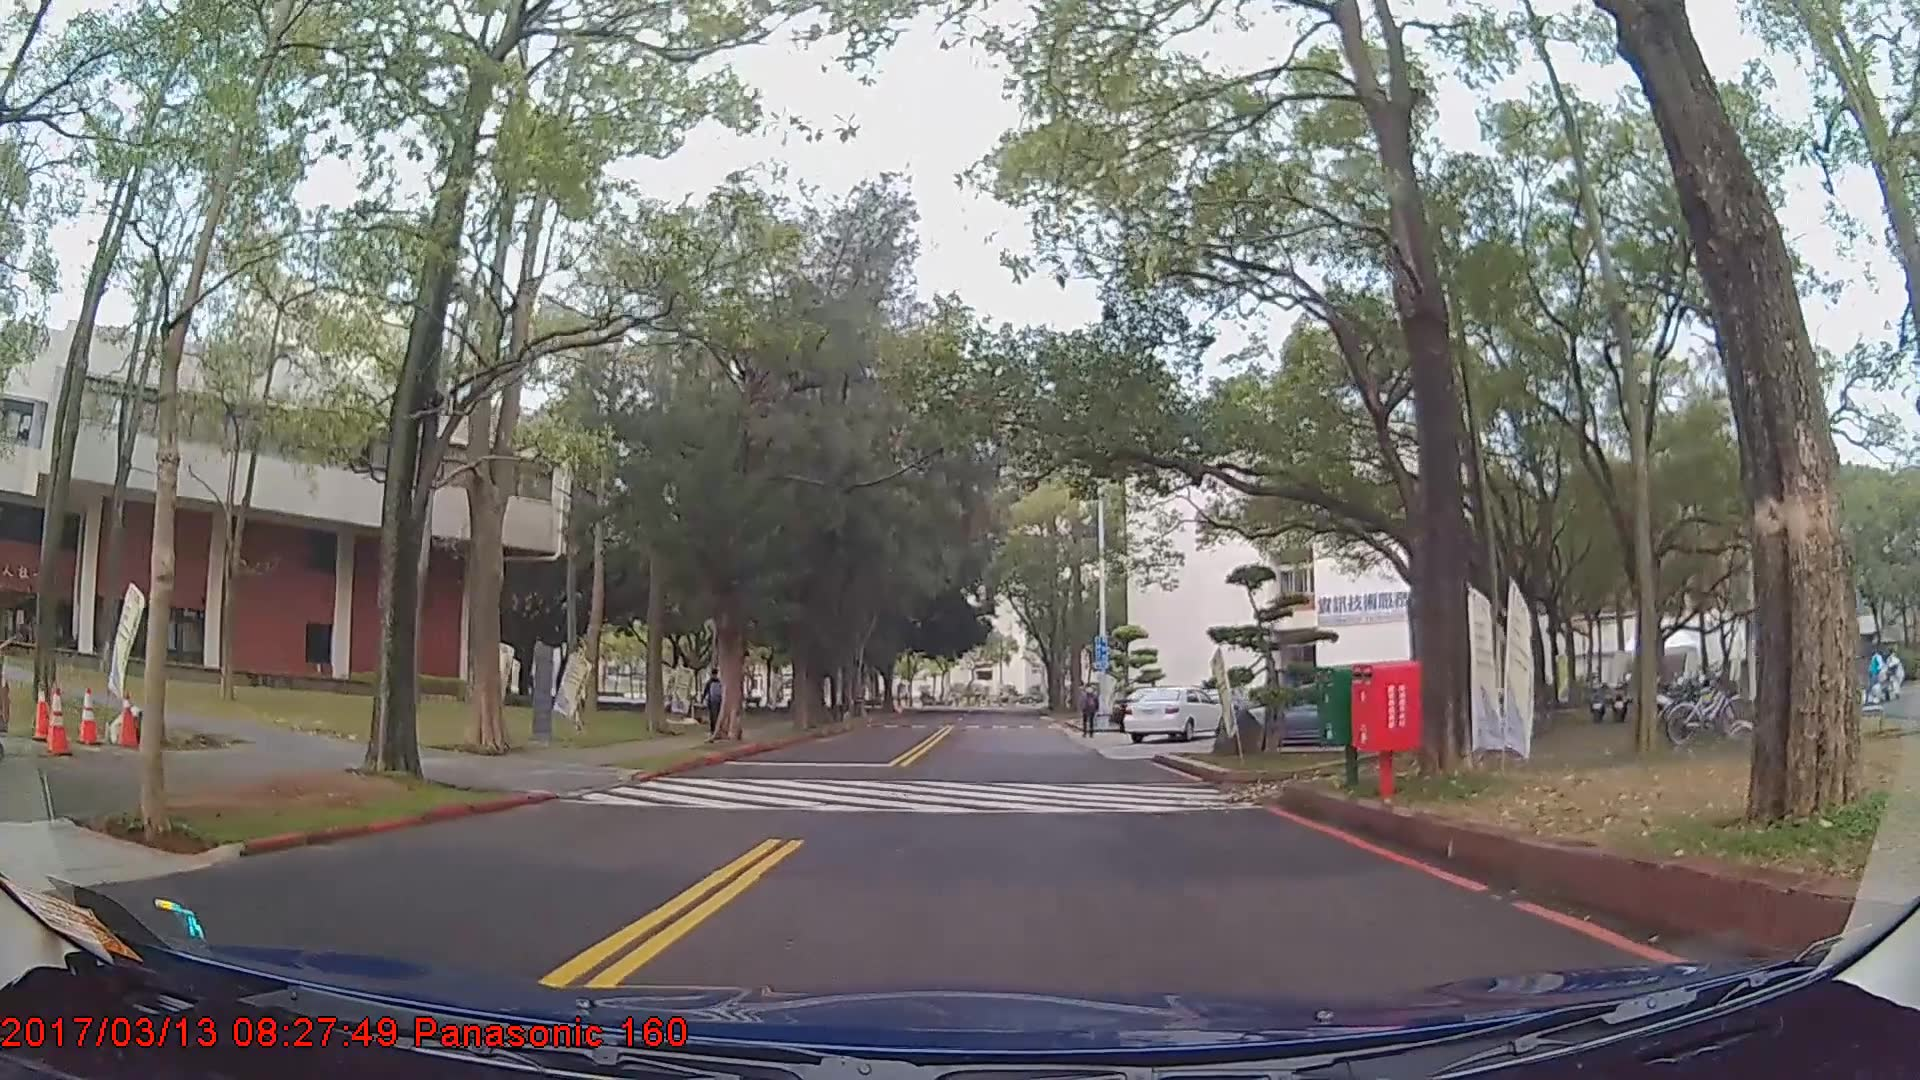pedestrian: (703, 666, 734, 737), (1078, 685, 1102, 740)
vehicle: (1124, 682, 1227, 742)
